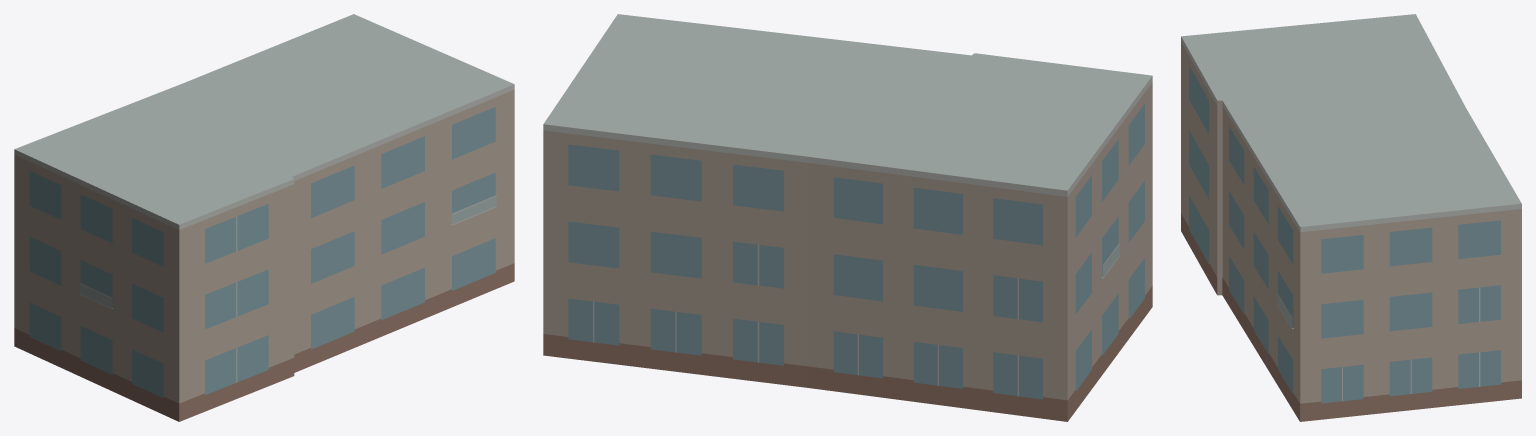
File: survey-upis-32624105.glb
The picture shows the model from 3 angles, left to right: view 1: azimuth 30°, elevation 25°; view 2: azimuth 150°, elevation 25°; view 3: azimuth 270°, elevation 25°; orthographic projection. The views are drawn at different scales.
Visible parts, largest first — view 1: survey-upis-32624105.tmp; view 2: survey-upis-32624105.tmp; view 3: survey-upis-32624105.tmp.
Part boxes in pixels (x1,y1,x2,y2): survey-upis-32624105.tmp: (14, 14, 514, 421); survey-upis-32624105.tmp: (543, 14, 1152, 421); survey-upis-32624105.tmp: (1181, 14, 1521, 421).
Size of the model in its own units: 21.48 by 9.15 by 14.52.
